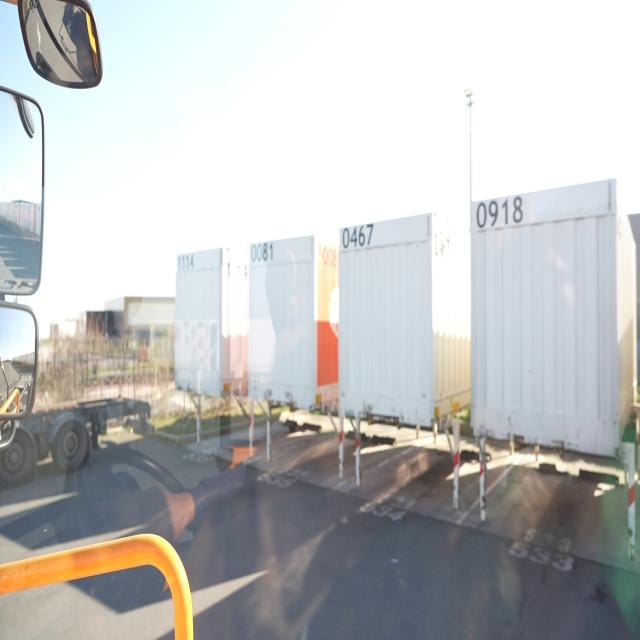Code: (474, 194, 528, 229), (340, 220, 374, 252), (248, 239, 276, 266), (174, 252, 199, 272)
